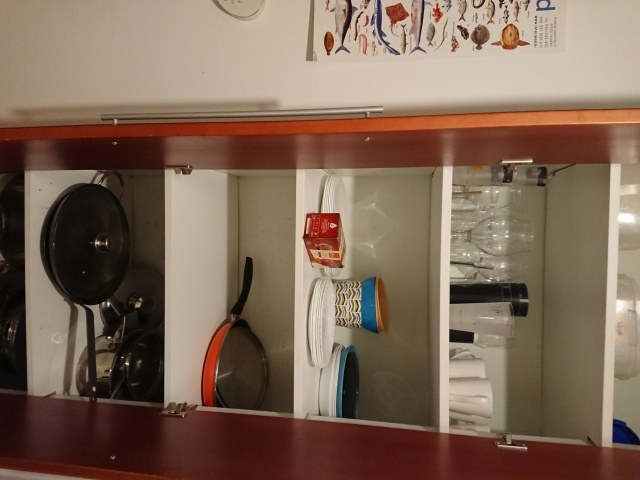Franck Apple Cinnamon Tea 60g: (300, 210, 348, 271)
